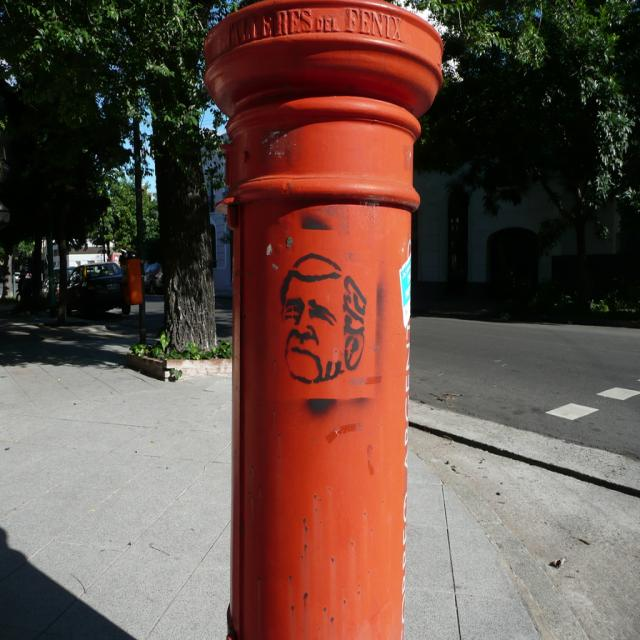fire_hydrant: (205, 1, 441, 640)
